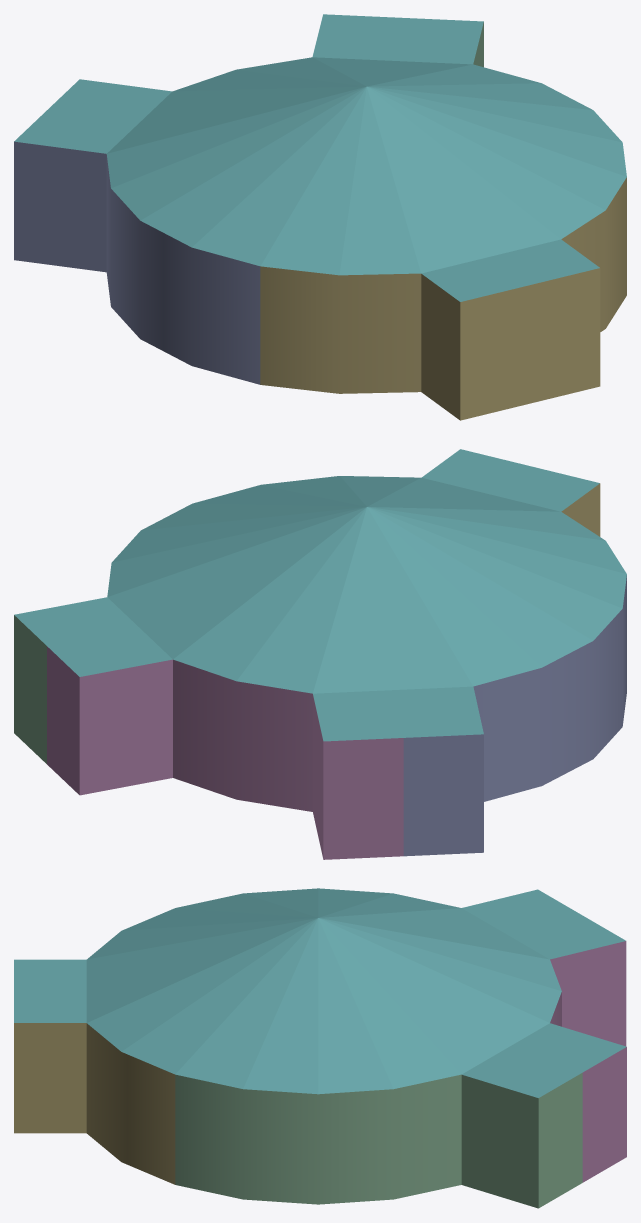
File: PowerStation.fbx
3 renders of one model, top to bottom at view 1: azimuth 30°, elevation 25°; view 2: azimuth 150°, elevation 25°; view 3: azimuth 270°, elevation 25°, orthographic. The views are drawn at different scales.
Visible parts, largest first — view 1: pCylinder1; view 2: pCylinder1; view 3: pCylinder1.
Part boxes in pixels (x1=…): pCylinder1: x1=14, y1=14, x2=626, y2=420; pCylinder1: x1=14, y1=449, x2=626, y2=859; pCylinder1: x1=14, y1=888, x2=626, y2=1208.
Bounding box in the file's own units: 12.45 × 5.13 × 15.1.
